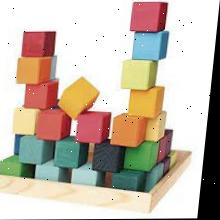cube: (59, 77, 103, 118), (114, 113, 150, 149), (130, 1, 170, 32), (122, 59, 160, 89), (78, 110, 113, 142), (17, 58, 58, 84), (22, 33, 57, 57)
